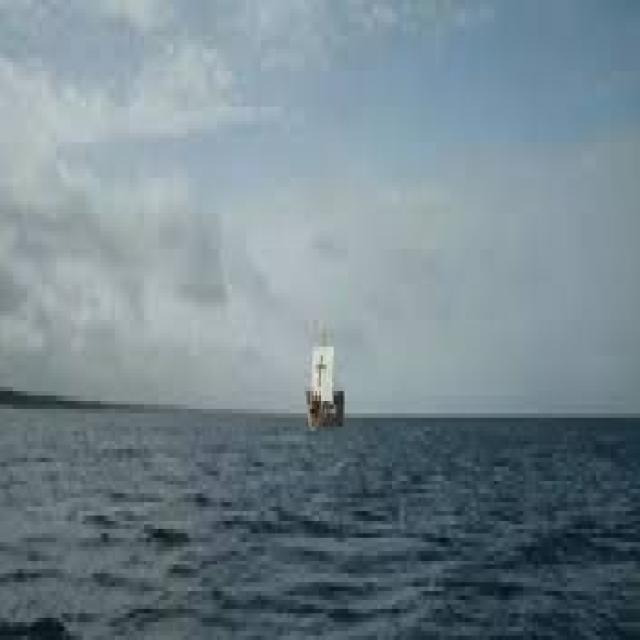fishing boat: (293, 341, 352, 434)
